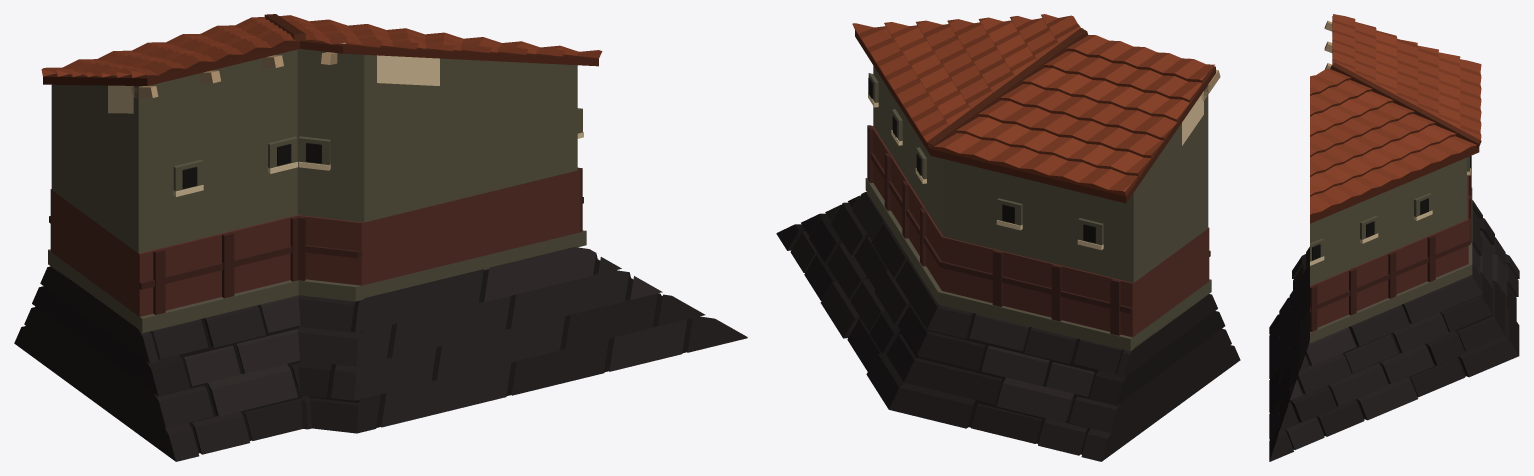
File: VerJoint10.glb
The picture shows the model from 3 angles, left to right: view 1: azimuth 30°, elevation 25°; view 2: azimuth 150°, elevation 25°; view 3: azimuth 270°, elevation 25°; orthographic projection. The views are drawn at different scales.
Visible parts, largest first — view 1: VerJoint10_mortar; view 2: VerJoint10_mortar; view 3: VerJoint10_mortar.
Part boxes in pixels (x1,y1,x2,y2): VerJoint10_mortar: (14,14,747,461); VerJoint10_mortar: (776,14,1240,461); VerJoint10_mortar: (1269,14,1519,461).
Bounding box in the file's own units: 8.85 × 5.61 × 4.91.
